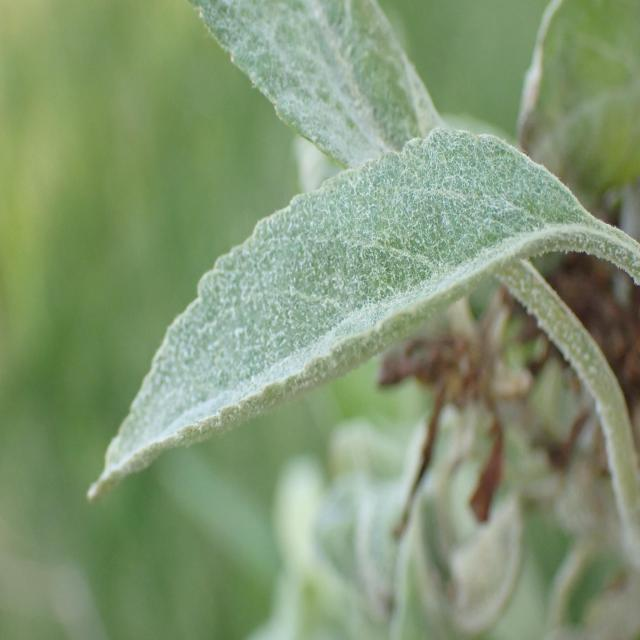Powdery_mildew: (97, 127, 638, 492), (182, 0, 571, 299)
